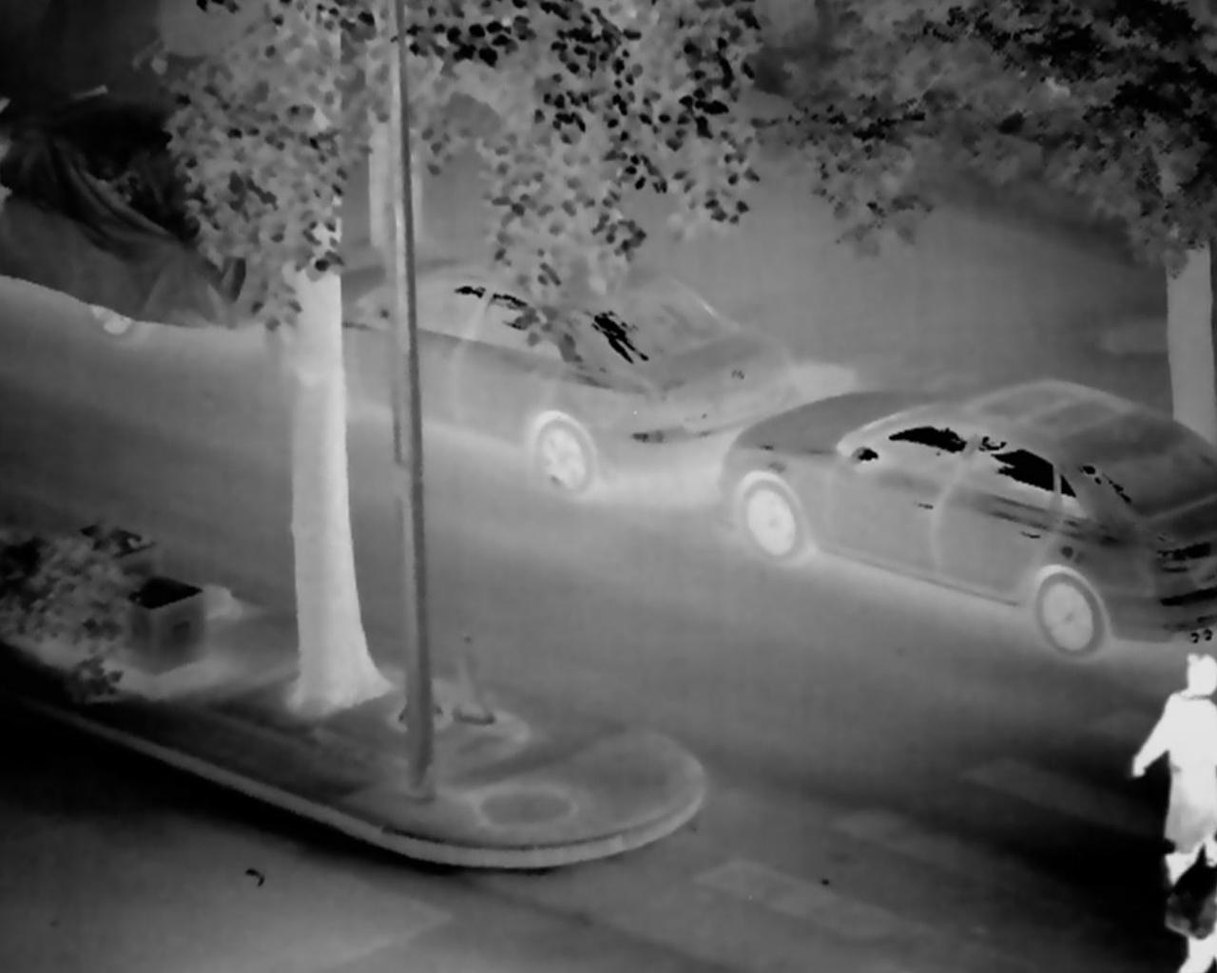person: (1126, 647, 1217, 873)
